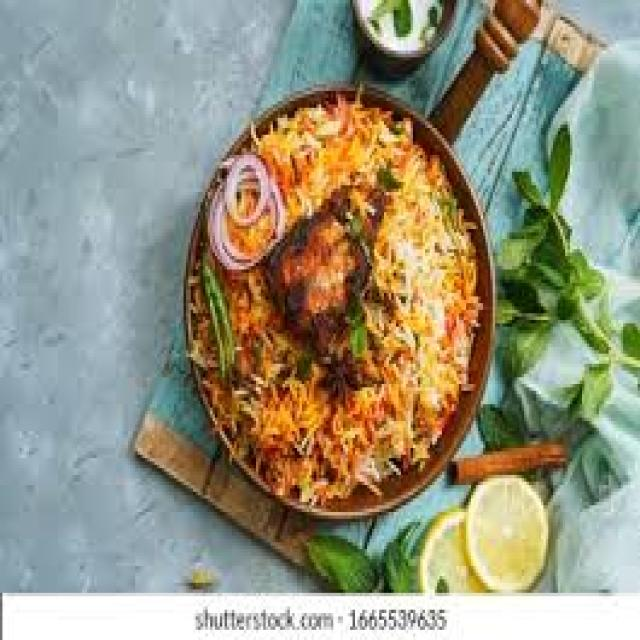Wet Waste: (186, 93, 471, 510)
